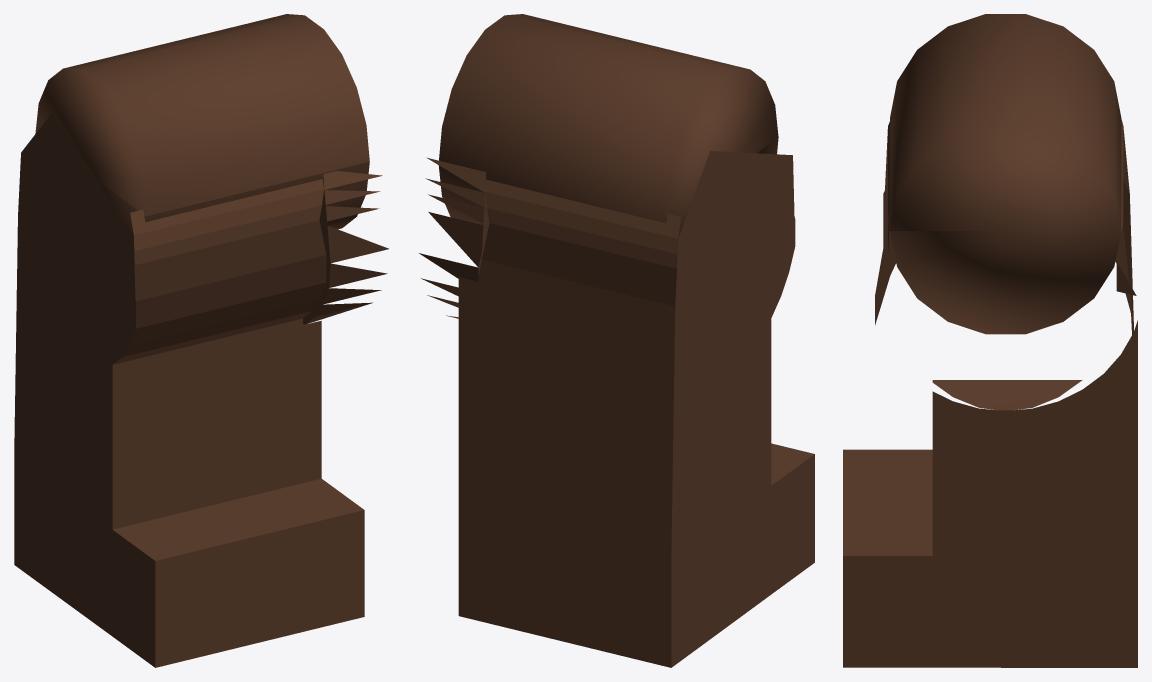
The model's file is legL.glb.
3 renders of one model, left to right at view 1: azimuth 30°, elevation 25°; view 2: azimuth 150°, elevation 25°; view 3: azimuth 270°, elevation 25°, orthographic. The views are drawn at different scales.
Visible parts, largest first — view 1: mom_legL; view 2: mom_legL; view 3: mom_legL.
Boxes of the visible parts, x1,y1,x2,y2 form: mom_legL: (14, 14, 388, 667); mom_legL: (419, 14, 814, 667); mom_legL: (843, 14, 1137, 667).
Bounding box in the file's own units: 0.3561 × 0.7237 × 0.3488.
